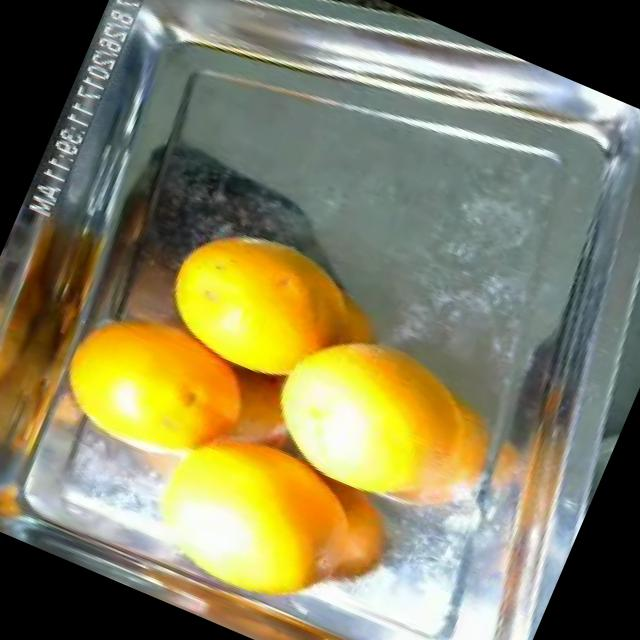Fruit: (133, 188, 383, 414), (28, 274, 278, 498)
